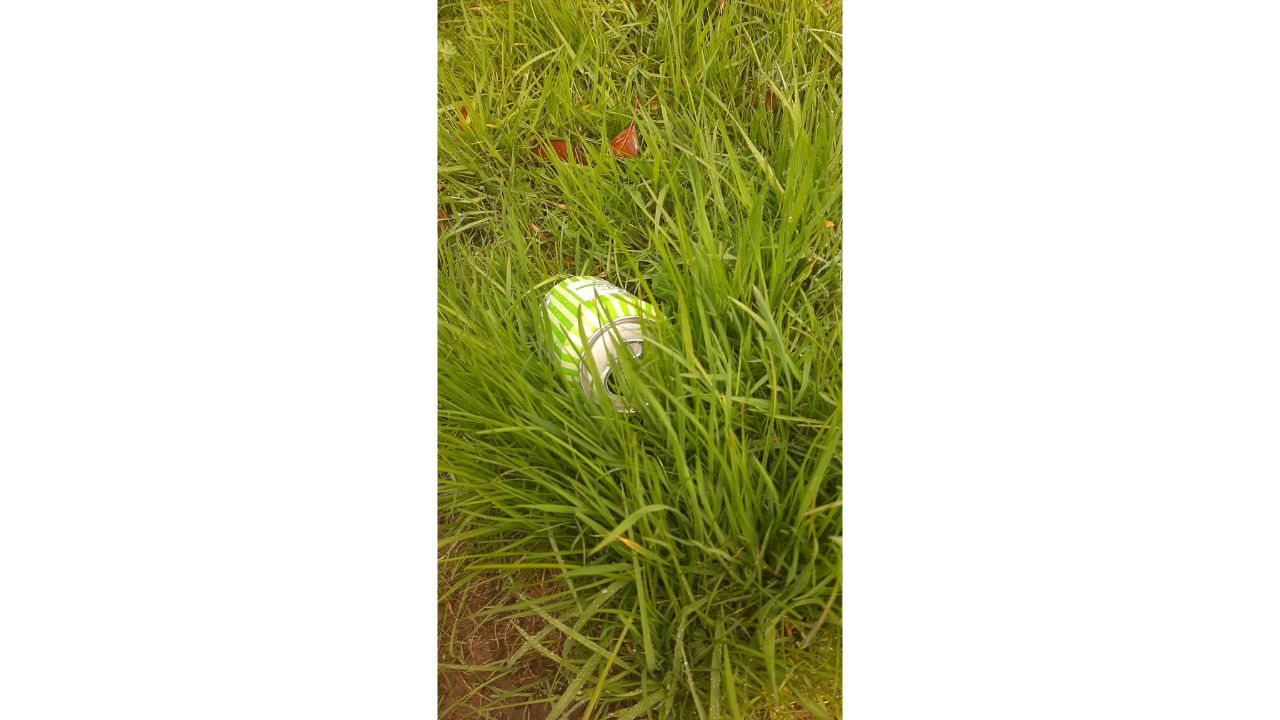Can: (531, 269, 695, 426)
